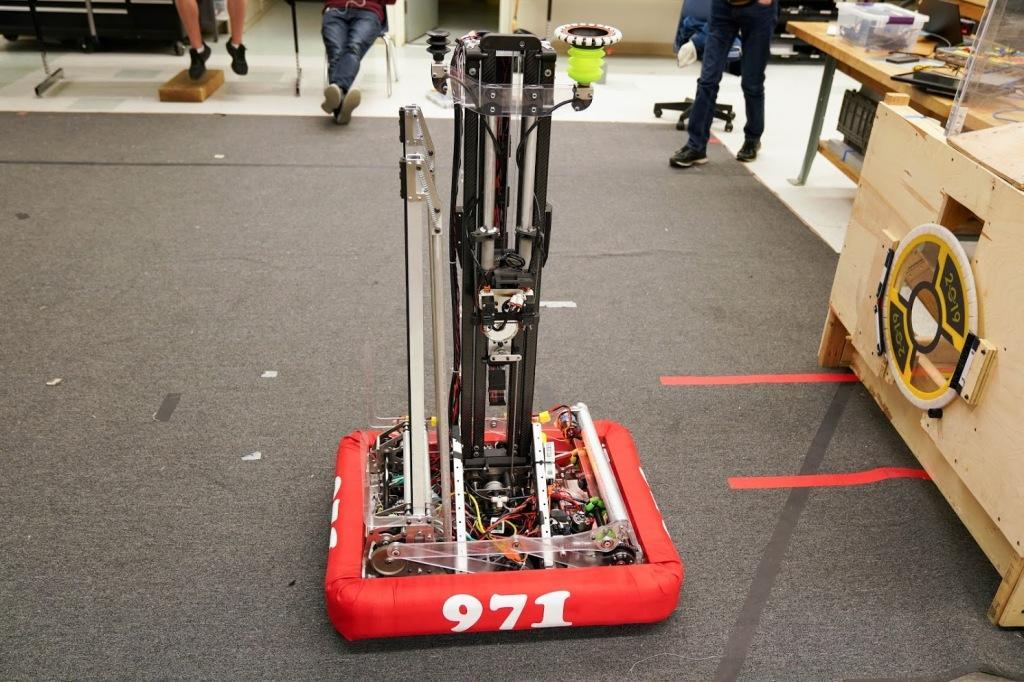robot: (315, 14, 691, 645)
